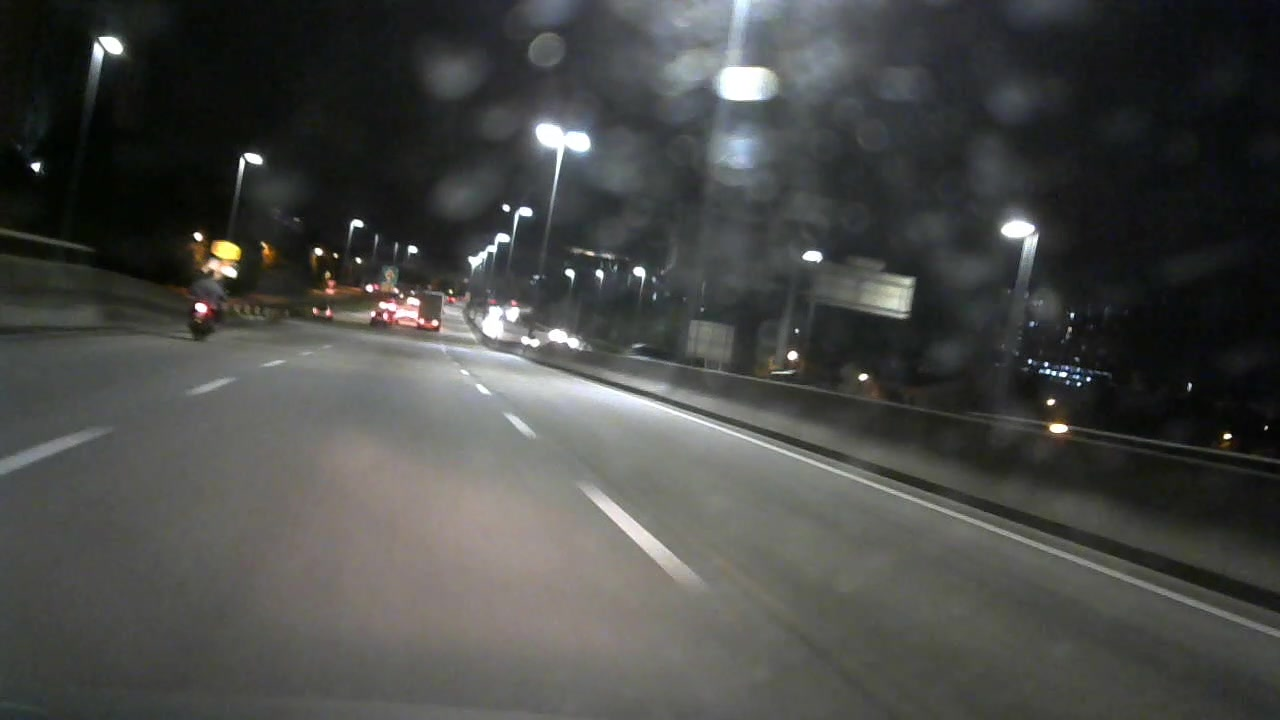Car: (303, 303, 334, 321), (368, 313, 391, 327)
